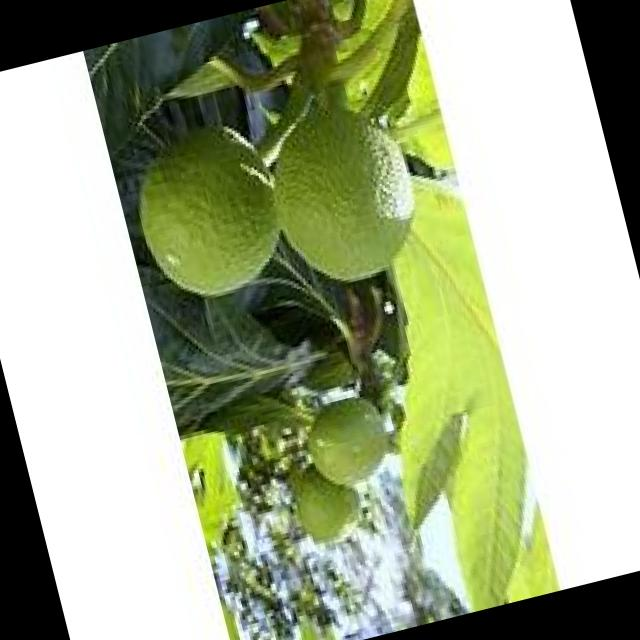Fruit: (240, 74, 440, 308)
